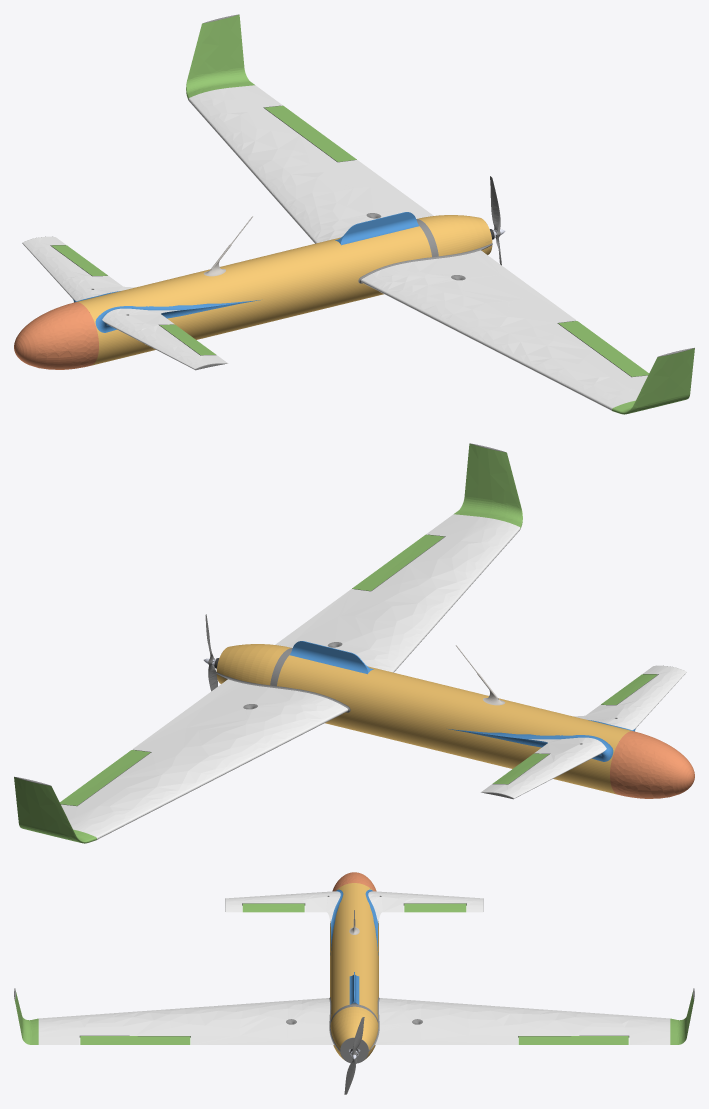
File: UAV.glb
3 renders of one model, top to bottom at view 1: azimuth 30°, elevation 25°; view 2: azimuth 150°, elevation 25°; view 3: azimuth 270°, elevation 25°, orthographic. The views are drawn at different scales.
Parts seen in each view (by area): view 1: Node5, Node2, Node6, Node11, Node9, Node10; view 2: Node5, Node2, Node6, Node11, Node9, Node10; view 3: Node5, Node2, Node6, Node10, Node9, Node7, Node11.
Part boxes in pixels (left/top/right/bottom): Node5: left=22, top=85, right=647, bottom=410; Node2: left=77, top=215, right=492, bottom=365; Node6: left=51, top=14, right=694, bottom=414; Node11: left=14, top=302, right=98, bottom=369; Node9: left=73, top=212, right=419, bottom=332; Node10: left=36, top=14, right=694, bottom=377; Node5: left=61, top=514, right=686, bottom=839; Node2: left=216, top=644, right=631, bottom=794; Node6: left=14, top=443, right=657, bottom=843; Node11: left=610, top=731, right=694, bottom=798; Node9: left=289, top=641, right=635, bottom=761; Node10: left=14, top=443, right=672, bottom=806; Node5: left=38, top=891, right=670, bottom=1044; Node2: left=330, top=883, right=378, bottom=1059; Node6: left=15, top=903, right=693, bottom=1044; Node10: left=14, top=895, right=694, bottom=1063; Node9: left=330, top=889, right=378, bottom=1004; Node7: left=344, top=1017, right=364, bottom=1094; Node11: left=332, top=872, right=376, bottom=891.
Bounding box in the file's own units: 1468 × 369 × 2372.
